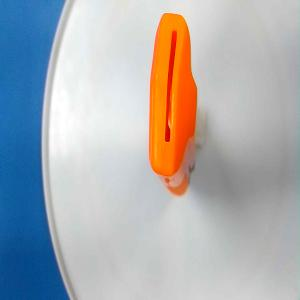estilete: (148, 12, 198, 198)
